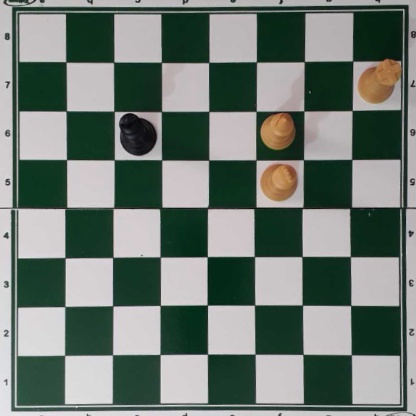black-king: (120, 112, 155, 156)
white-bishop: (261, 111, 294, 150)
white-king: (258, 162, 297, 202)
white-rook: (358, 59, 401, 103)
